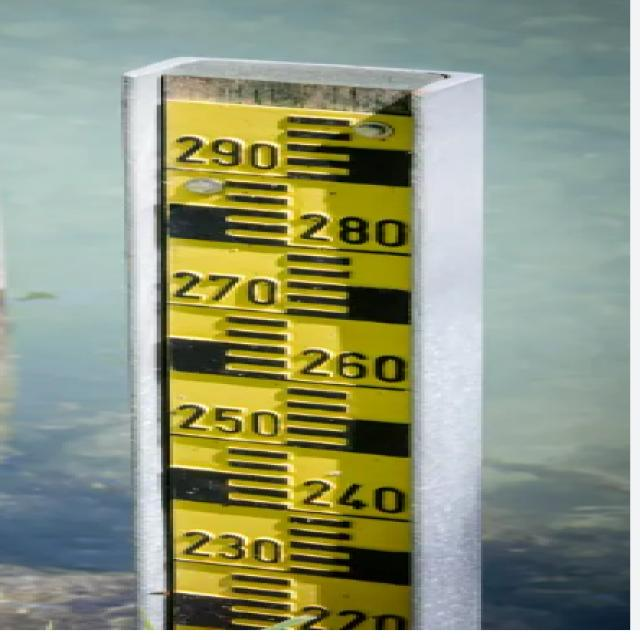ruler: (121, 92, 454, 628)
value: (162, 130, 294, 178), (286, 343, 420, 388), (289, 207, 422, 252), (290, 473, 420, 519), (164, 402, 294, 446), (162, 268, 291, 312), (169, 526, 295, 570)
